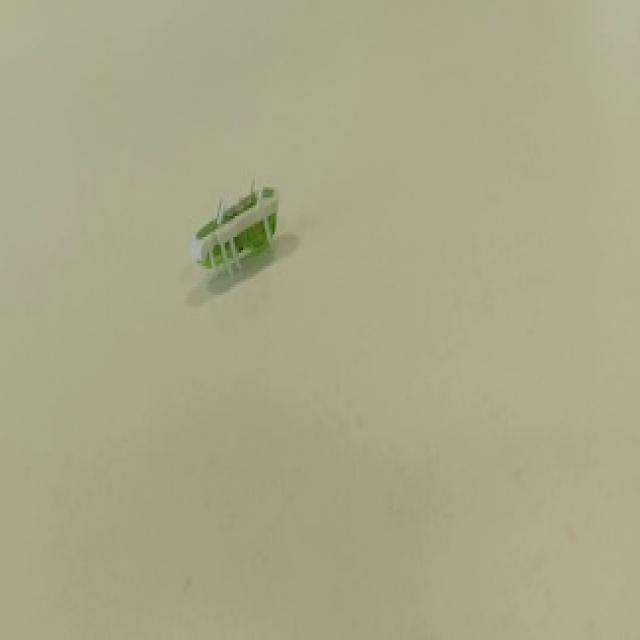4_NanoBug_Blanco: (165, 140, 315, 336)
